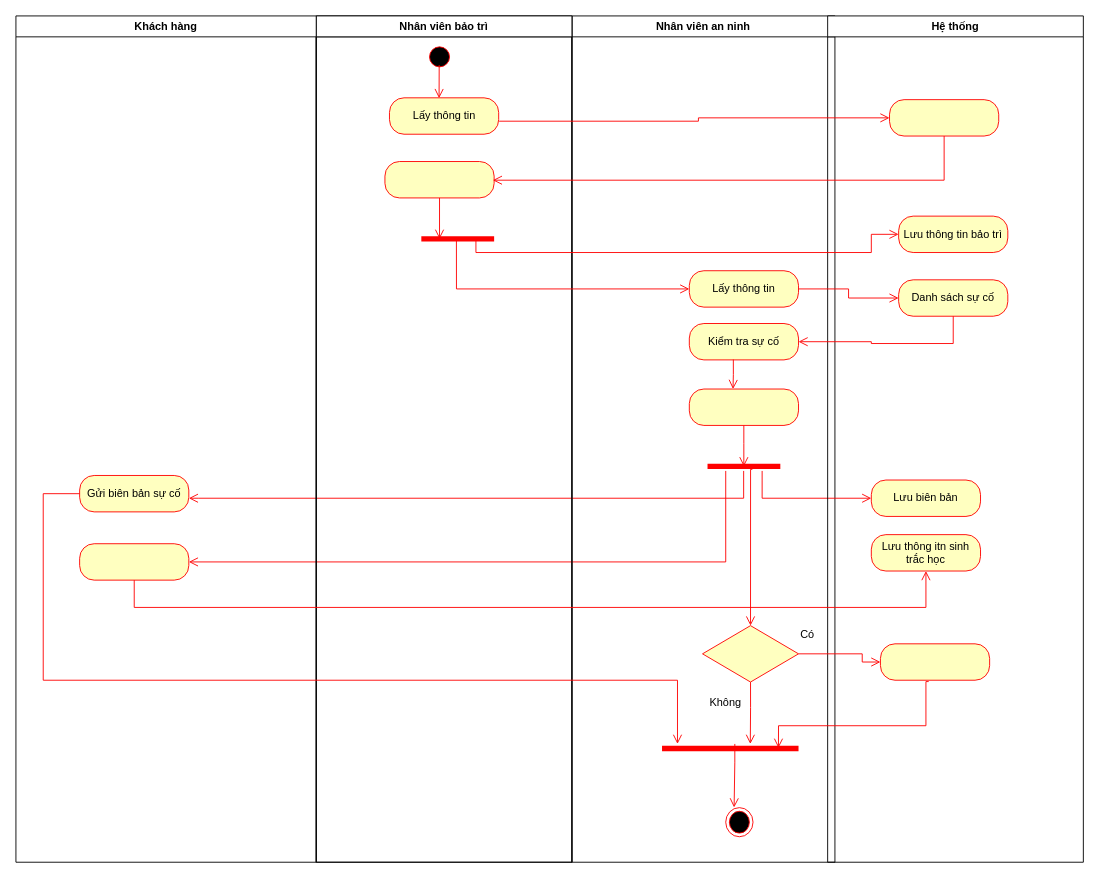
Image size: 1099x878. Some labels were removed from this diagram. Each missing label, with the box of its shape:
Danh sách phiếu hỗ trợ: (889, 99, 999, 136)
Hết hạn hợp đồng?: (702, 625, 799, 682)
Lấy thông tin sinh trắc học: (79, 543, 189, 580)
Lập biên bản sự cố: (688, 388, 799, 425)
Xóa thông tin sinh trắc học: (880, 643, 990, 680)
Đi sửa chữa: (384, 161, 494, 198)
